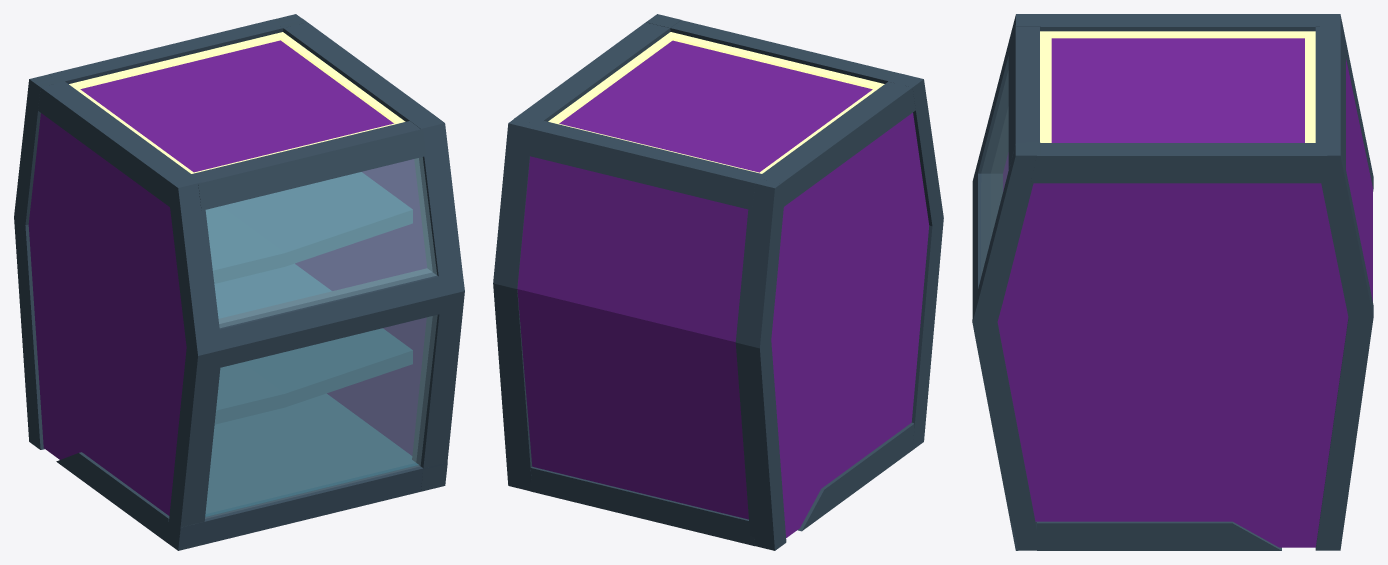
The model's file is bedside_table_tier21.fbx.
3 views of the same model, side by side, from view 1: azimuth 30°, elevation 25°; view 2: azimuth 150°, elevation 25°; view 3: azimuth 270°, elevation 25° (orthographic). The views are drawn at different scales.
Visible parts, largest first — view 1: Cube, Cube.022, Cube.009, Cube.017, Cube.012, Cube.005, Cube.006, Cube.011, Cube.001, Cube.013, Cube.021, Cube.004 (+3 smaller); view 2: Cube.008, Cube.022, Cube.017, Cube.004, Cube.010, Cube.019, Cube.021, Cube.009, Cube.014, Cube.020, Cube.001, Cube.016; view 3: Cube.011, Cube.017, Cube.009, Cube.020, Cube.010, Cube.015, Cube.021, Cube.001, Cube.019, Cube.008, Cube, Cube.004.
Boxes of the visible parts, <box> form: Cube: <box>205,157,437,518</box>; Cube.022: <box>28,113,186,515</box>; Cube.009: <box>166,114,464,550</box>; Cube.017: <box>69,32,405,173</box>; Cube.012: <box>205,393,418,516</box>; Cube.005: <box>205,172,412,283</box>; Cube.006: <box>214,263,412,424</box>; Cube.011: <box>295,159,426,455</box>; Cube.001: <box>192,121,425,210</box>; Cube.013: <box>178,463,447,547</box>; Cube.021: <box>35,78,191,206</box>; Cube.004: <box>14,74,64,449</box>; Cube.008: <box>517,156,748,519</box>; Cube.022: <box>771,112,929,537</box>; Cube.017: <box>548,32,884,173</box>; Cube.004: <box>735,174,786,550</box>; Cube.010: <box>493,115,543,491</box>; Cube.019: <box>528,121,762,210</box>; Cube.021: <box>761,81,915,206</box>; Cube.009: <box>646,14,943,449</box>; Cube.014: <box>530,466,754,546</box>; Cube.020: <box>514,22,670,124</box>; Cube.001: <box>670,20,899,83</box>; Cube.016: <box>797,423,914,531</box>; Cube.011: <box>997,183,1348,547</box>; Cube.017: <box>1040,31,1315,142</box>; Cube.009: <box>972,14,1040,550</box>; Cube.020: <box>1031,143,1327,183</box>; Cube.010: <box>1315,143,1373,550</box>; Cube.015: <box>1037,521,1281,550</box>; Cube.021: <box>1040,14,1327,31</box>; Cube.001: <box>1008,25,1039,170</box>; Cube.019: <box>1315,24,1345,169</box>; Cube.008: <box>1346,59,1372,301</box>; Cube: <box>981,71,1008,275</box>; Cube.004: <box>1315,14,1373,191</box>.
Size of the model in its own units: 77.73 by 101 by 92.85.
